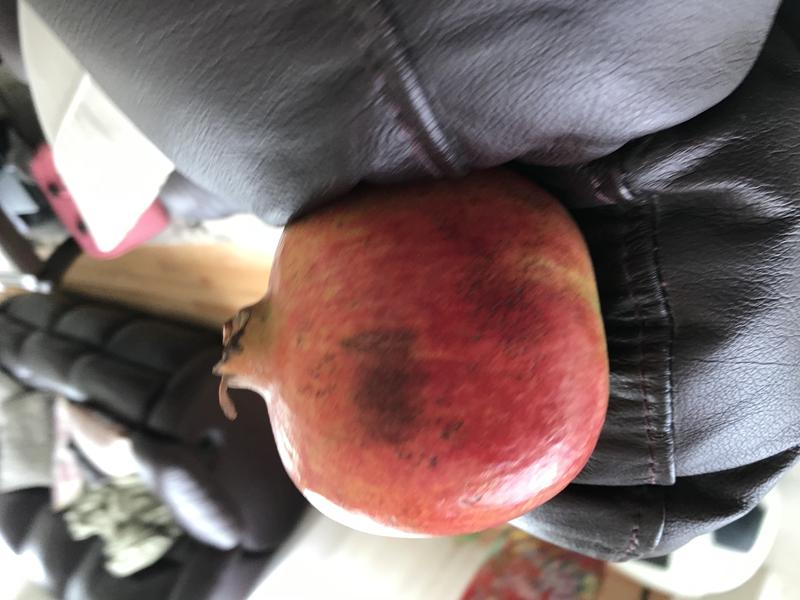pomegranate: (185, 156, 629, 549)
